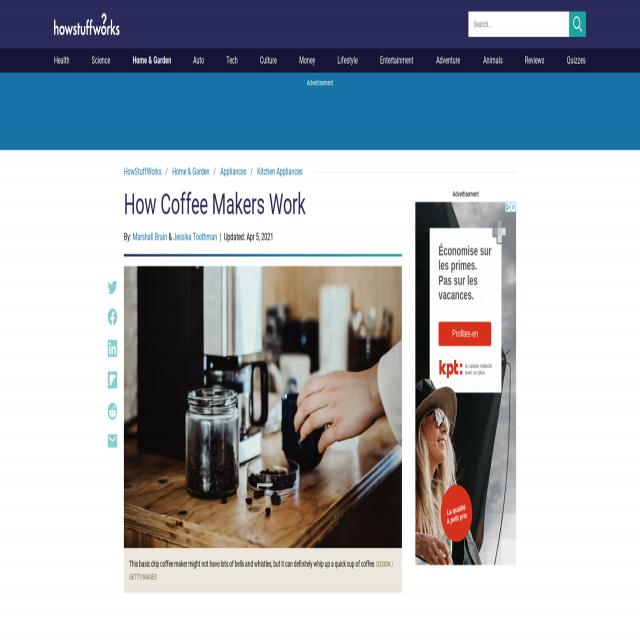button: (124, 267, 402, 592), (415, 201, 516, 564), (54, 14, 120, 35), (569, 12, 586, 37), (106, 432, 119, 449), (107, 306, 117, 326), (108, 398, 116, 422), (108, 340, 117, 357), (108, 372, 117, 388), (108, 281, 117, 294), (510, 202, 516, 212), (506, 202, 510, 212)
field: (469, 12, 569, 37)
